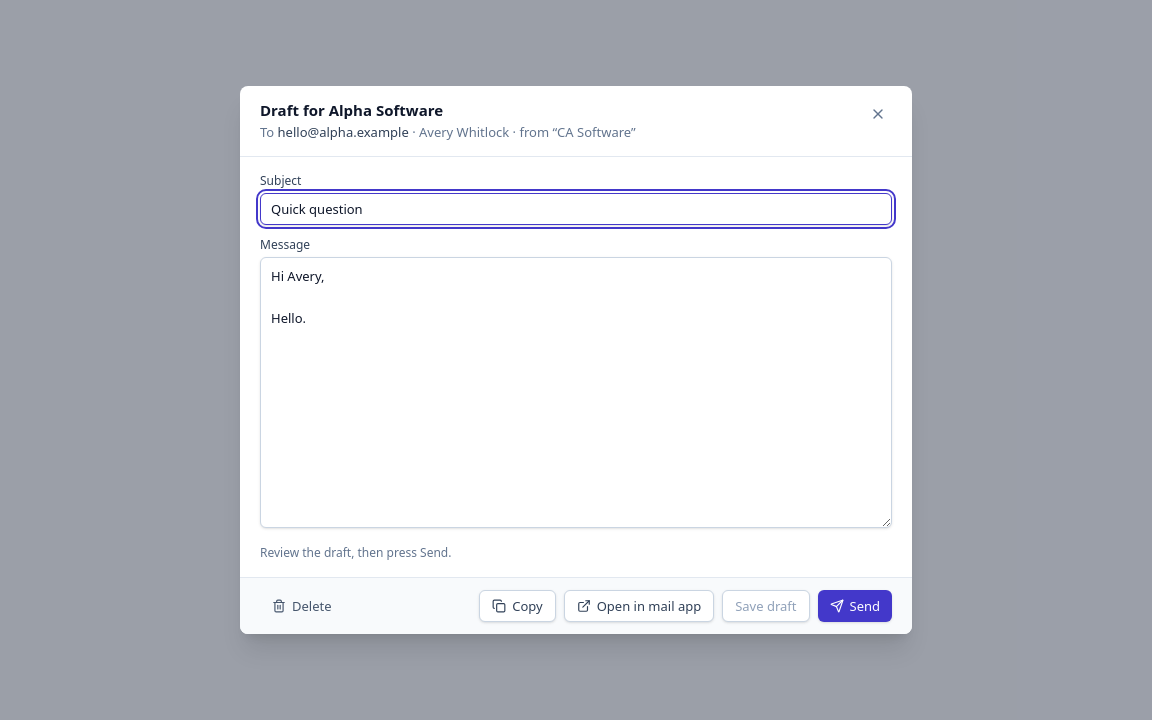
DraftEditorDialog › does not allow an empty subject or message
Clear the text box labelled "Message" at (576, 392), box [260, 257, 892, 528]
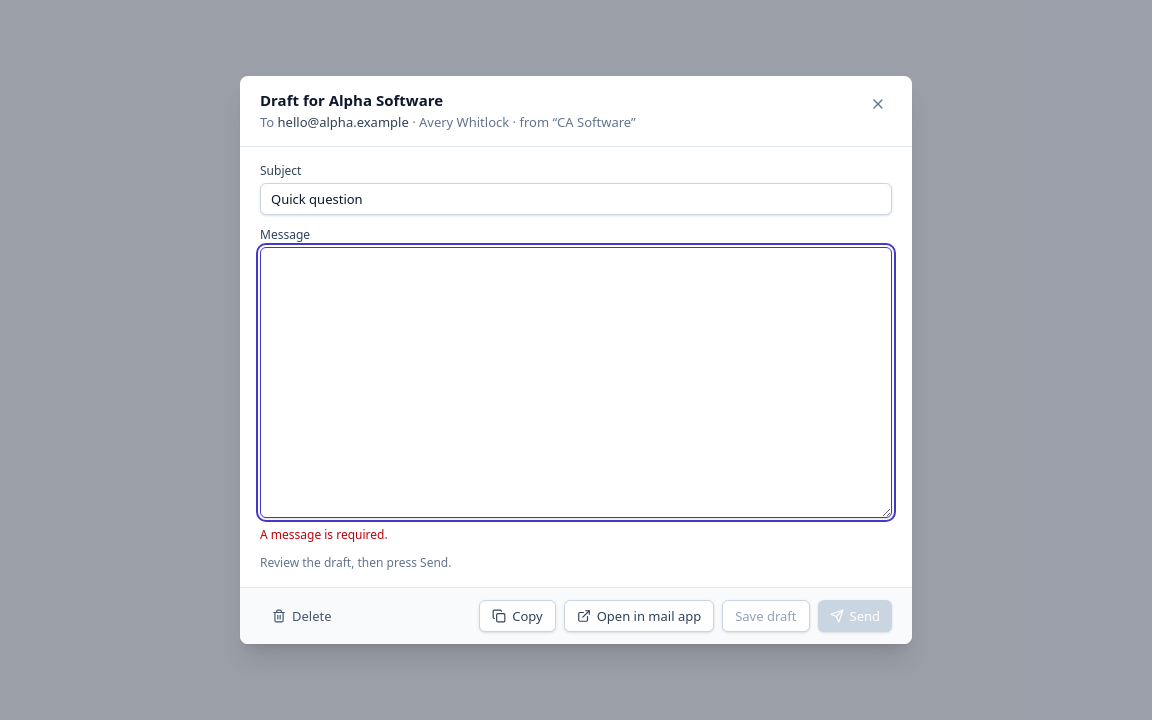
Expected: the button "Save draft" is disabled, [722, 600, 810, 632]
Now the text "A message is required." is shown, box [260, 526, 388, 543]
